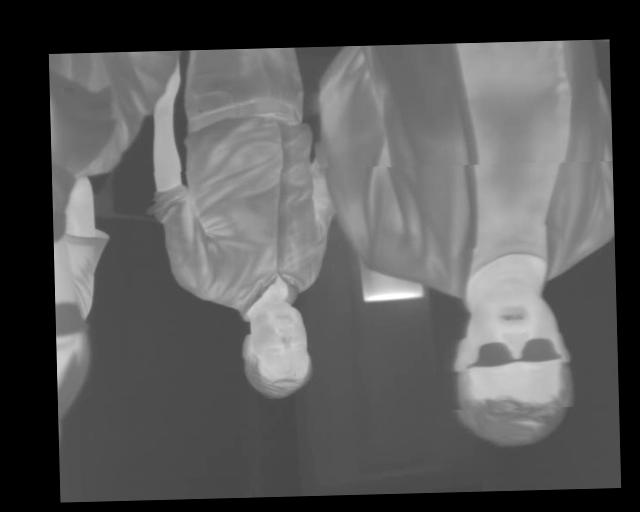face: (450, 279, 575, 450), (240, 302, 313, 401)
